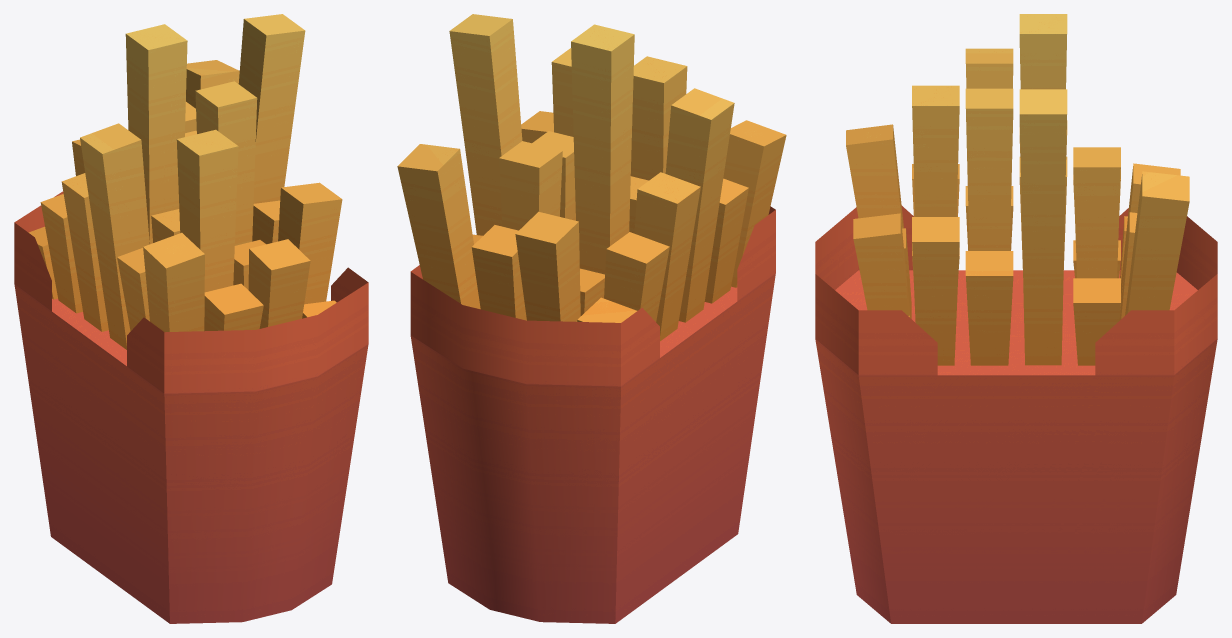
Rendered from fries.glb.
The picture shows the model from 3 angles, left to right: view 1: azimuth 30°, elevation 25°; view 2: azimuth 150°, elevation 25°; view 3: azimuth 270°, elevation 25°; orthographic projection. The views are drawn at different scales.
Visible parts, largest first — view 1: fries (×2); view 2: fries (×2); view 3: fries (×2).
Part boxes in pixels (left/top/right/bottom): fries (×2): left=14, top=14, right=368, bottom=623; fries (×2): left=397, top=14, right=786, bottom=623; fries (×2): left=815, top=14, right=1217, bottom=623.
Size of the model in its own units: 0.183 by 0.3977 by 0.2653.
1 material, 1 textured.
